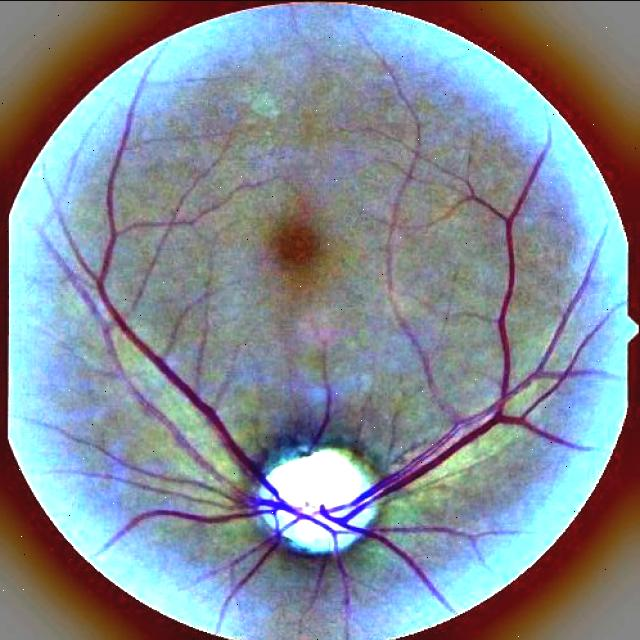Macula: (279, 226, 319, 262)
Nerves: (90, 75, 611, 605)
Optic Disk: (258, 445, 378, 553)
